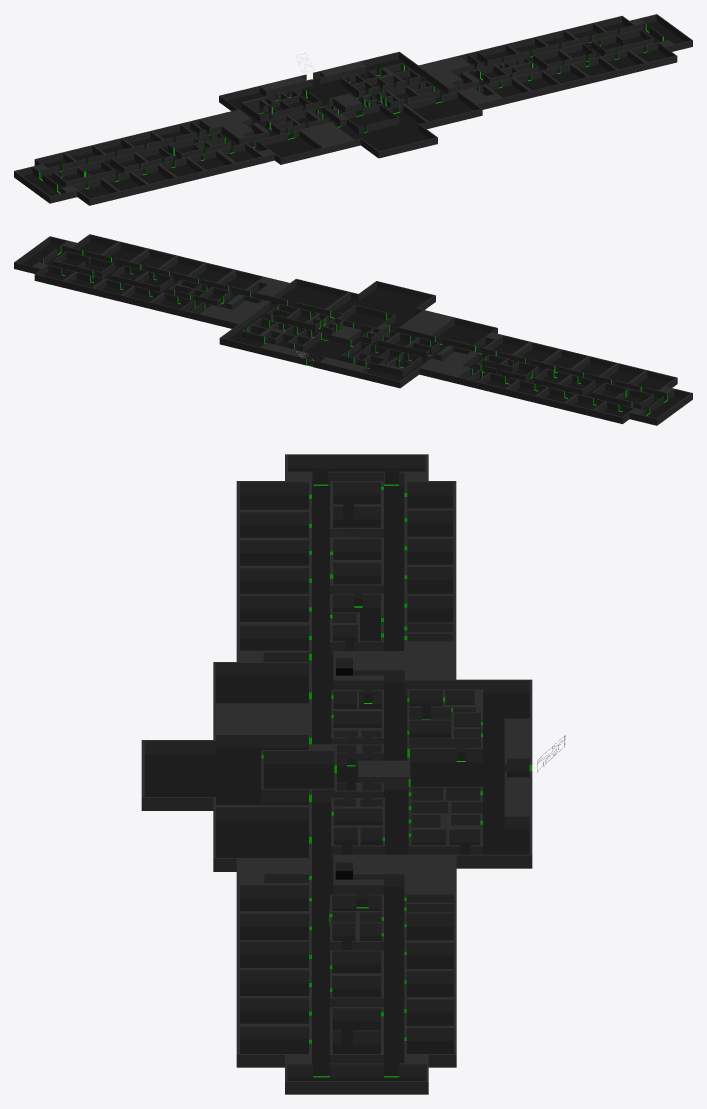
The model's file is asylum_topfloor.obj.
3 renders of one model, top to bottom at view 1: azimuth 30°, elevation 25°; view 2: azimuth 150°, elevation 25°; view 3: azimuth 270°, elevation 25°, orthographic. The views are drawn at different scales.
Visible parts, largest first — view 1: map_asylum_layer_top_outline; view 2: map_asylum_layer_top_outline; view 3: map_asylum_layer_top_outline.
Part boxes in pixels (box(x1,y1,x2,y2)): map_asylum_layer_top_outline: box(14, 14, 692, 205); map_asylum_layer_top_outline: box(14, 234, 692, 425); map_asylum_layer_top_outline: box(141, 454, 532, 1094).
Bounding box in the file's own units: 24.42 × 0.9838 × 6.96.
